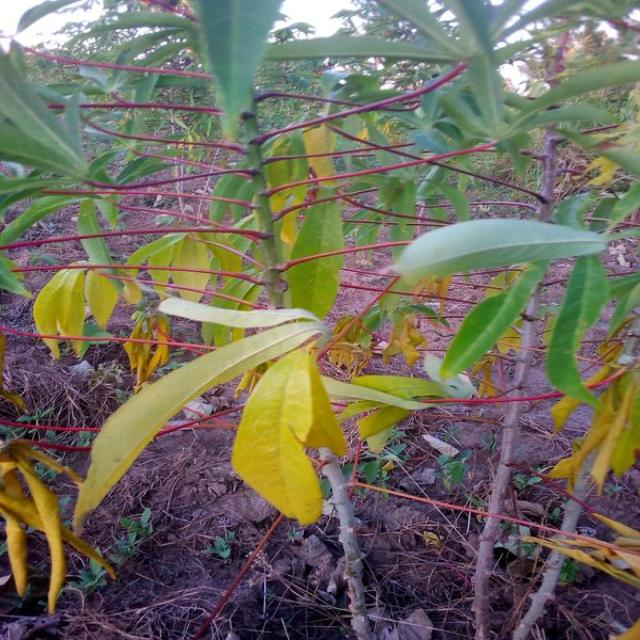cassava leaf: (230, 344, 346, 527), (393, 215, 608, 284)
